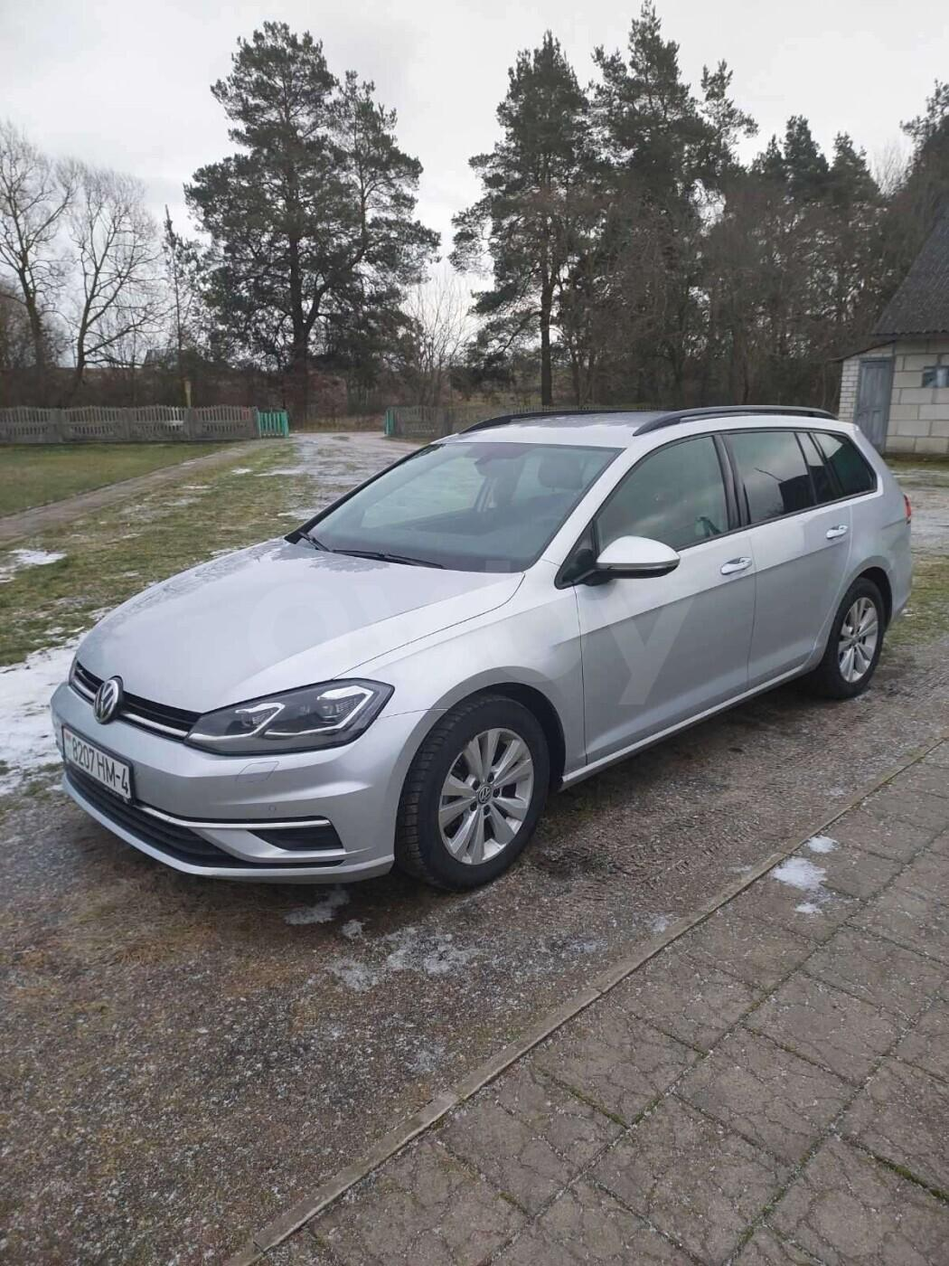Golf_2017-2021: (45, 407, 912, 902)
